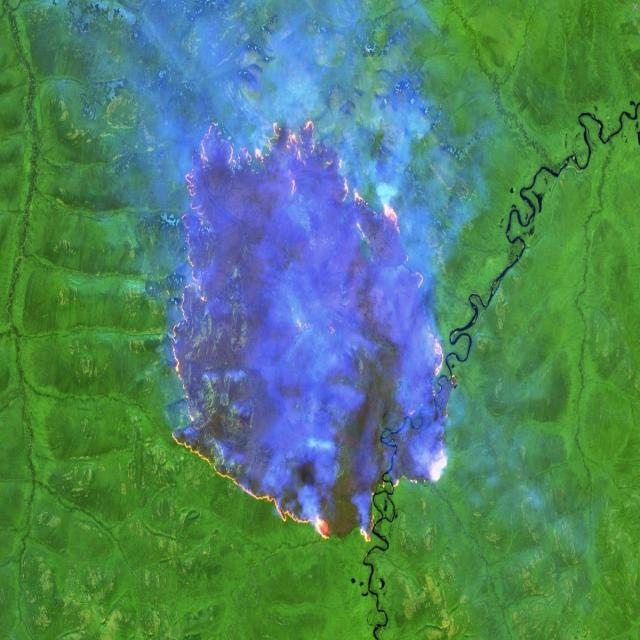fire: (163, 110, 460, 548)
